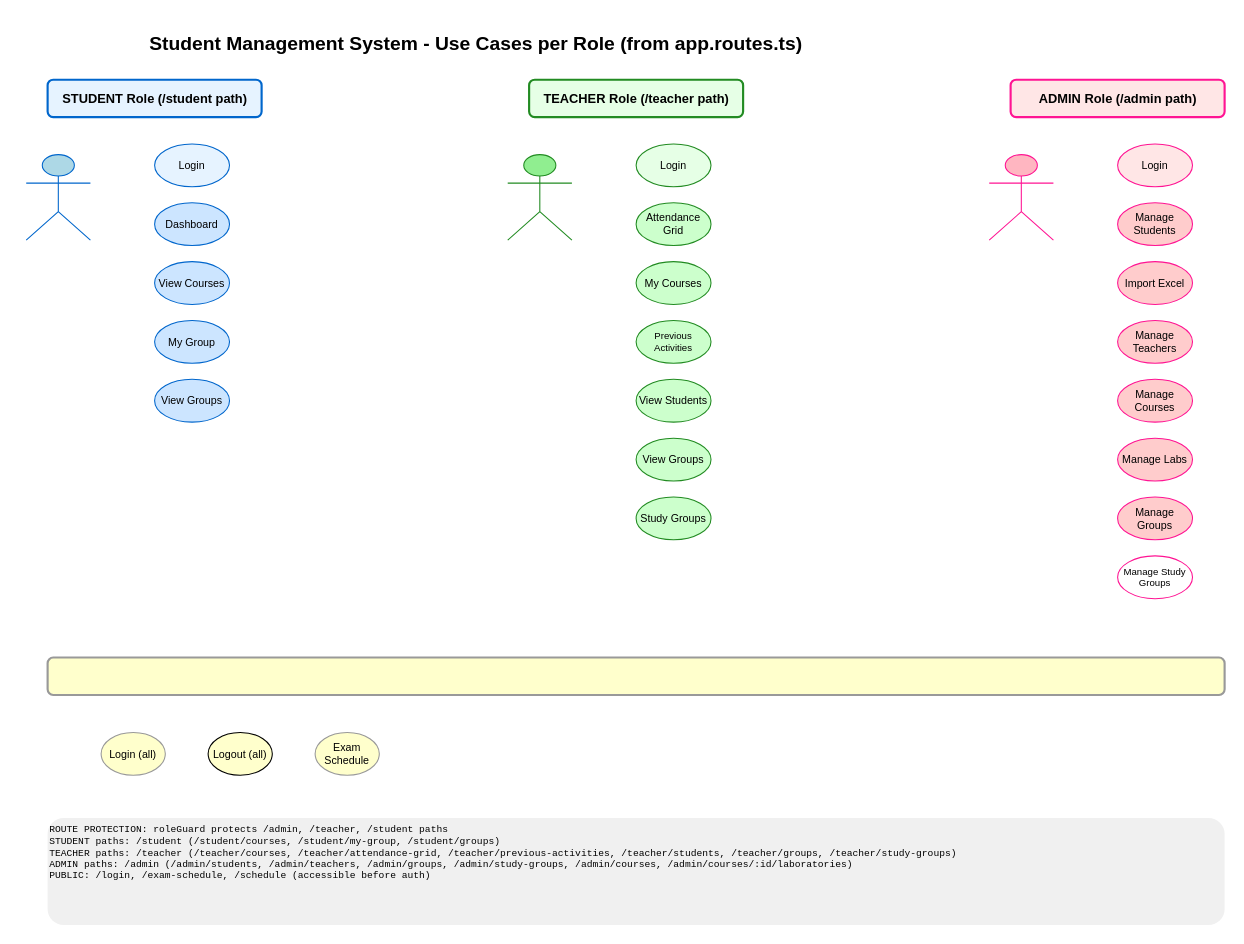
Image size: 1244x944. Some labels were removed from this diagram. The centre of each missing label's shape, as x and y in pixels:
"Admin" goes at (x=1020, y=197).
"Shared/Public Features" goes at (x=635, y=676).
"Student" goes at (x=57, y=197).
"Teacher" goes at (x=539, y=197).
